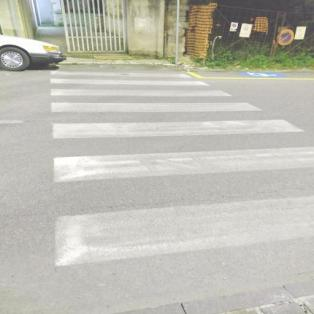Paso de Cebra: (38, 100, 309, 144), (47, 70, 215, 88)
